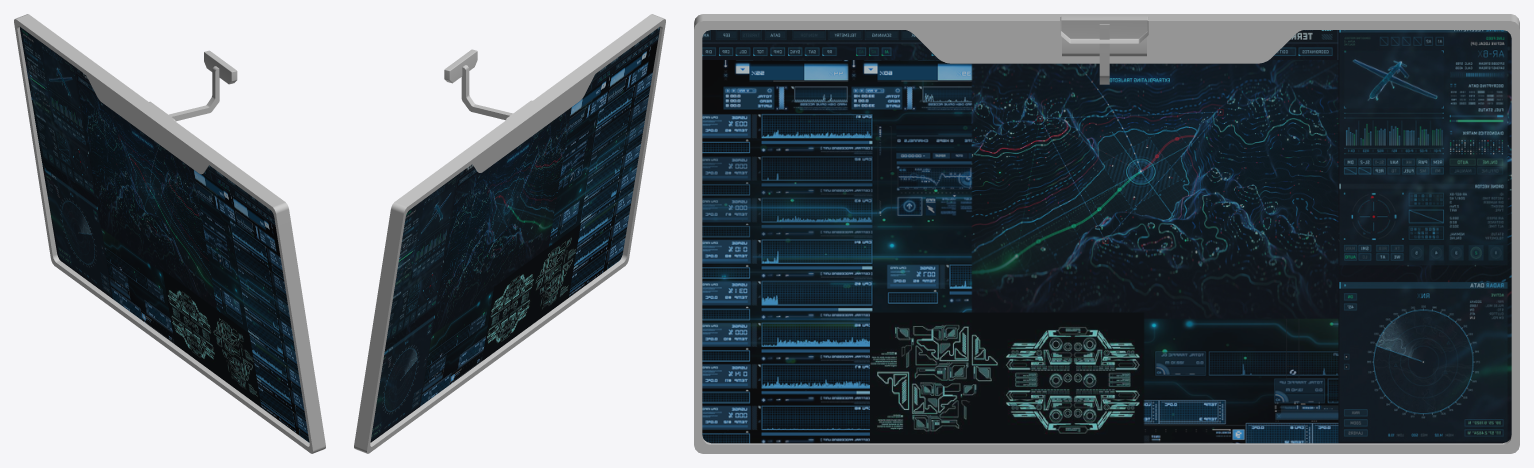
Rendered from Monitor_04.fbx.
3 renders of one model, left to right at view 1: azimuth 30°, elevation 25°; view 2: azimuth 150°, elevation 25°; view 3: azimuth 270°, elevation 25°, orthographic. The views are drawn at different scales.
Parts seen in each view (by area): view 1: Monitor_01_LOD0; view 2: Monitor_01_LOD0; view 3: Monitor_01_LOD0.
Part boxes in pixels (x1,y1,x2,y2): Monitor_01_LOD0: (14,14,325,453); Monitor_01_LOD0: (354,14,665,453); Monitor_01_LOD0: (694,14,1519,453).
Size of what is drawn, in the model's own units: 31.6 by 112 by 183.
